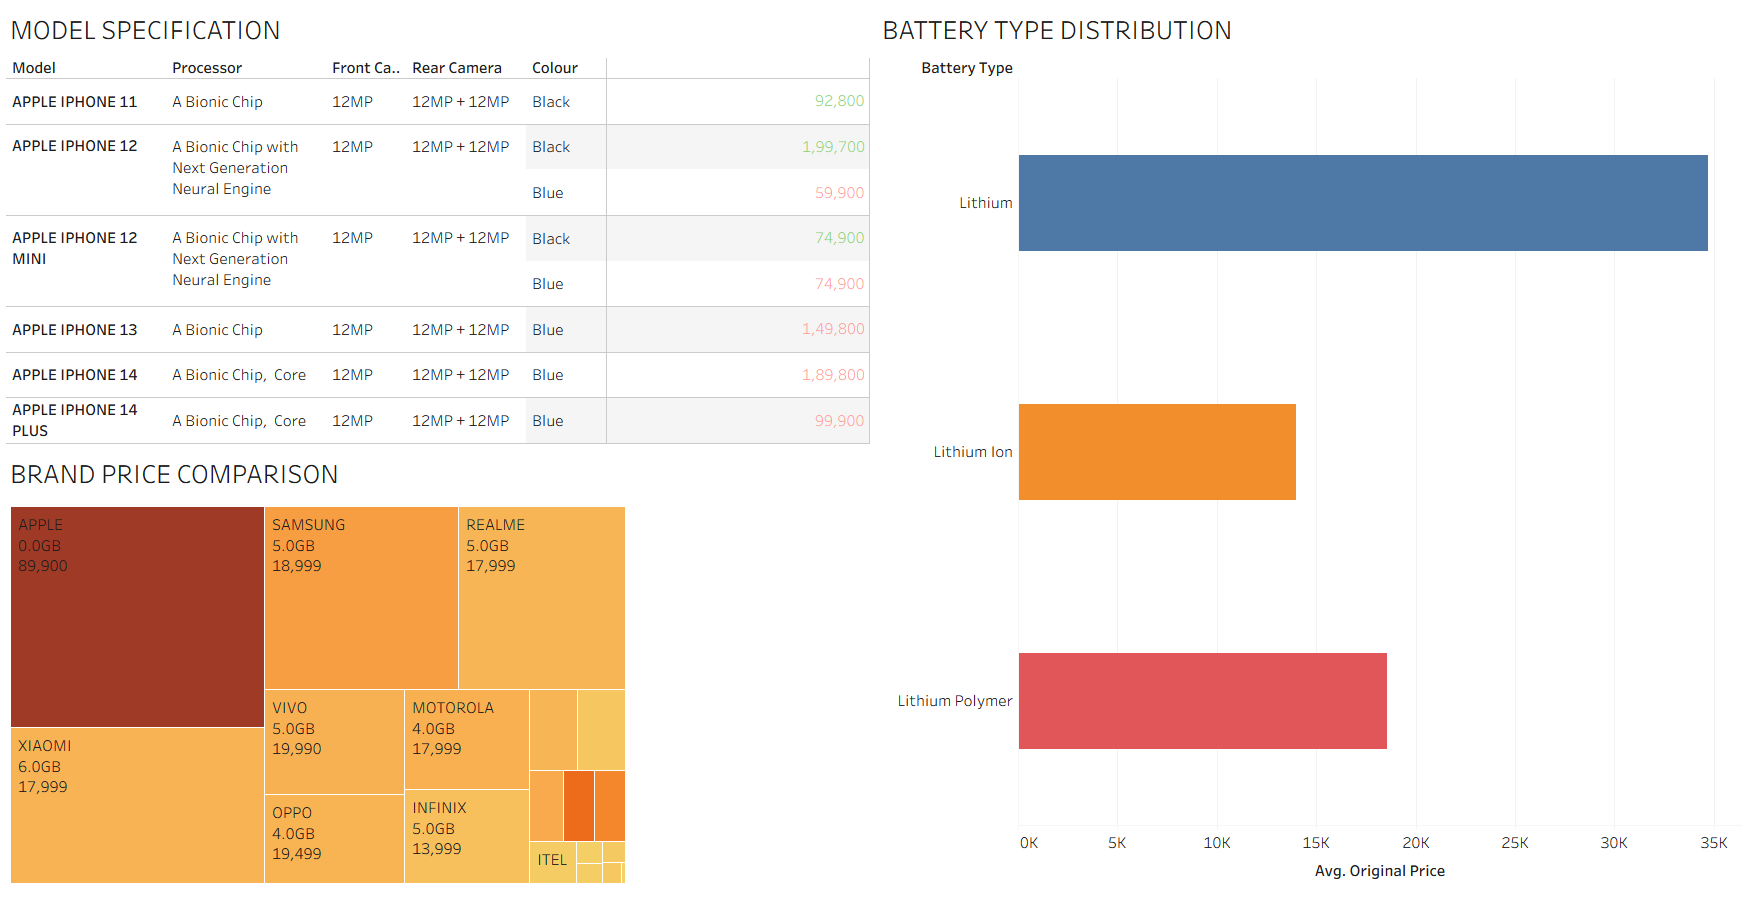

Layout of this report page (visuals, bound fields, positions):
{"tool":"tableau","page":{"name":"Dashboard 2","canvas":[1000,1000],"units":"permille","ordinal":1},"visuals":[{"type":"worksheet","title":"MODEL SPECIFICATION","mark":"Automatic","rows":["model","processor","front_camera","rear_camera","colour"],"box":[4.8,10,447.3,490]},{"type":"worksheet","title":"BATTERY TYPE DISTRIBUTION","mark":"Automatic","rows":["battery_type"],"cols":["original_price"],"box":[452.1,10,447.3,980]},{"type":"filter","title":"MODEL SPECIFICATION","param":"[federated.0p778d40vckwse13tbcz712gv2j0].[none:colour:nk]","box":[899.4,10,95.8,76.2]},{"type":"filter","title":"MODEL SPECIFICATION","param":"[federated.0p778d40vckwse13tbcz712gv2j0].[none:brand:nk]","box":[899.4,86.2,95.8,76.2]},{"type":"legend","title":"MODEL SPECIFICATION","param":"[federated.0p778d40vckwse13tbcz712gv2j0].[none:colour:nk]","box":[899.4,162.3,95.8,89.9]},{"type":"filter","title":"BATTERY TYPE DISTRIBUTION","param":"[federated.0p778d40vckwse13tbcz712gv2j0].[none:brand:nk]","box":[899.4,252.2,95.8,76.2]},{"type":"legend","title":"BATTERY TYPE DISTRIBUTION","param":"[federated.0p778d40vckwse13tbcz712gv2j0].[none:battery_type:nk]","box":[899.4,328.4,95.8,116.1]},{"type":"legend","title":"BRAND PRICE COMPARISON","param":"[federated.0p778d40vckwse13tbcz712gv2j0].[avg:original_price:qk]","box":[899.4,444.5,95.8,91.1]},{"type":"worksheet","title":"BRAND PRICE COMPARISON","mark":"Automatic","box":[4.8,500,447.3,490]}]}

Visuals, with their boxes on the dashboard's canvas, which has no fixed pixel size, in thousandths of its width and height (x1, y1, x2, y2). These are canvas units, not pixel positions in the 1750x899 screenshot, which may show the page scaled, cropped or inside an application window:
"MODEL SPECIFICATION" worksheet: bbox(5, 10, 452, 500)
"BATTERY TYPE DISTRIBUTION" worksheet: bbox(452, 10, 899, 990)
"MODEL SPECIFICATION" filter: bbox(899, 10, 995, 86)
"MODEL SPECIFICATION" filter: bbox(899, 86, 995, 162)
"MODEL SPECIFICATION" legend: bbox(899, 162, 995, 252)
"BATTERY TYPE DISTRIBUTION" filter: bbox(899, 252, 995, 328)
"BATTERY TYPE DISTRIBUTION" legend: bbox(899, 328, 995, 444)
"BRAND PRICE COMPARISON" legend: bbox(899, 444, 995, 536)
"BRAND PRICE COMPARISON" worksheet: bbox(5, 500, 452, 990)
